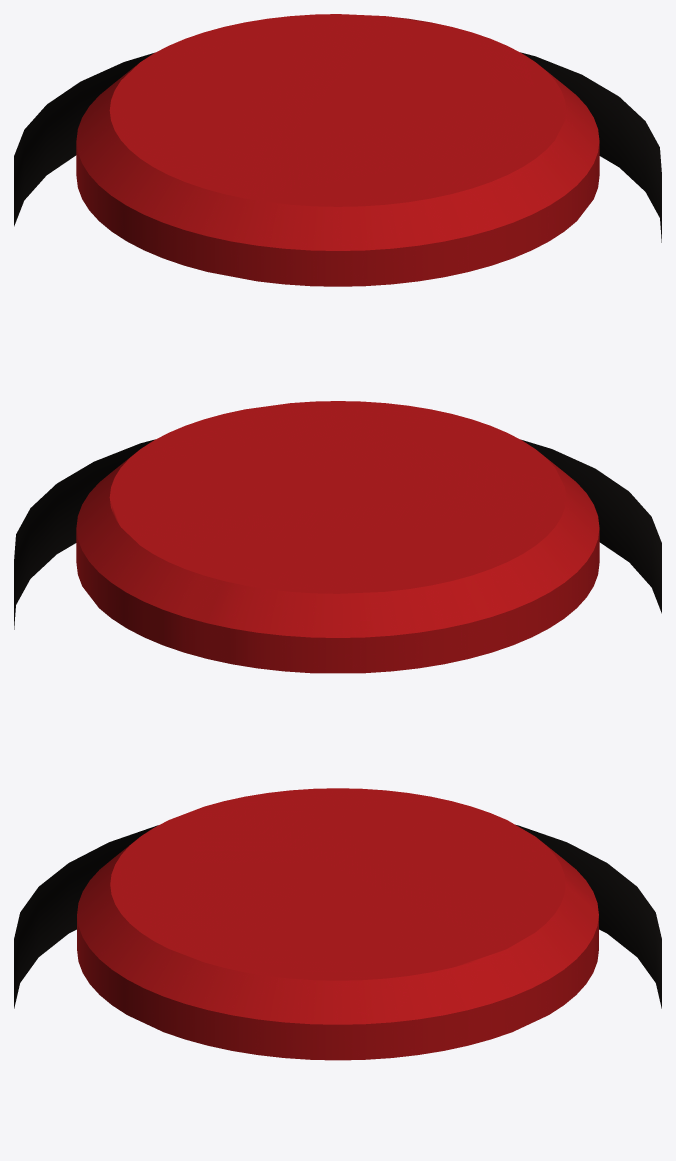
Rendered from button.glb.
3 renders of one model, top to bottom at view 1: azimuth 30°, elevation 25°; view 2: azimuth 150°, elevation 25°; view 3: azimuth 270°, elevation 25°, orthographic.
Visible parts, largest first — view 1: Circle; view 2: Circle; view 3: Circle.
Boxes of the visible parts, x1,y1,x2,y2 form: Circle: (14, 14, 661, 286); Circle: (14, 401, 661, 673); Circle: (14, 788, 661, 1060).
Bounding box in the file's own units: 1.79 × 0.3815 × 1.79.
Materials: 1 (1 with a texture image).
